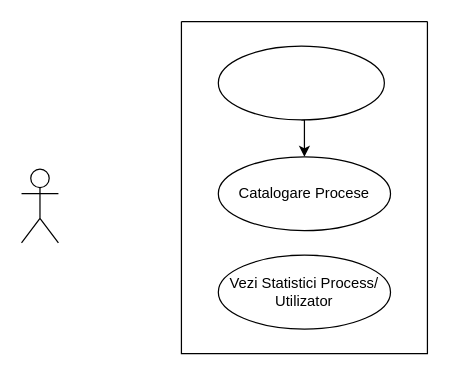
Image size: 449x375. Some labels were removed from this diagram. Here are the shapes that lost their labels. From the top down, the centre of each, then its label:
At point (300, 82): "Vezi Procese + Istoric Procese".
At point (39, 205): "Actor".
